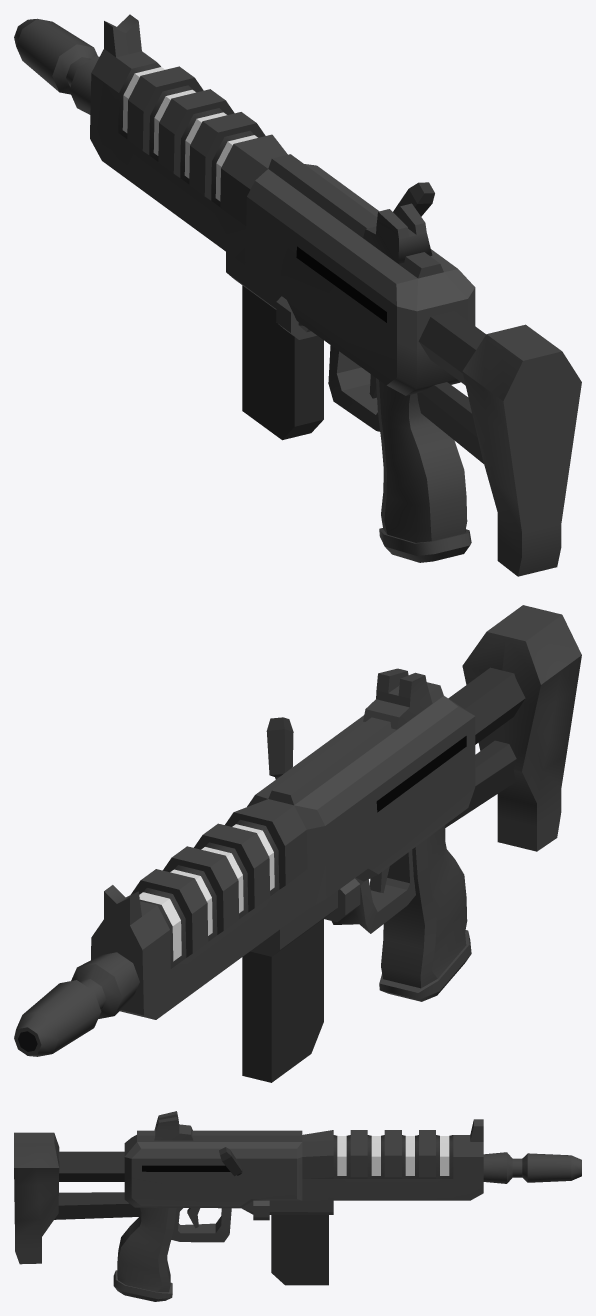
The model's file is LaserCarbine.fbx.
3 renders of one model, top to bottom at view 1: azimuth 30°, elevation 25°; view 2: azimuth 150°, elevation 25°; view 3: azimuth 270°, elevation 25°, orthographic. The views are drawn at different scales.
Parts seen in each view (by area): view 1: LaserCarbine, LaserCarbineMagazine; view 2: LaserCarbine, LaserCarbineMagazine; view 3: LaserCarbine, LaserCarbineMagazine.
Boxes of the visible parts, x1=… form: LaserCarbine: x1=14, y1=14, x2=581, y2=576; LaserCarbineMagazine: x1=242, y1=285, x2=323, y2=440; LaserCarbine: x1=14, y1=605, x2=581, y2=1056; LaserCarbineMagazine: x1=242, y1=919, x2=323, y2=1082; LaserCarbine: x1=14, y1=1111, x2=581, y2=1301; LaserCarbineMagazine: x1=271, y1=1215, x2=328, y2=1285.
Bounding box in the file's own units: 0.1283 × 0.3345 × 0.9525.
